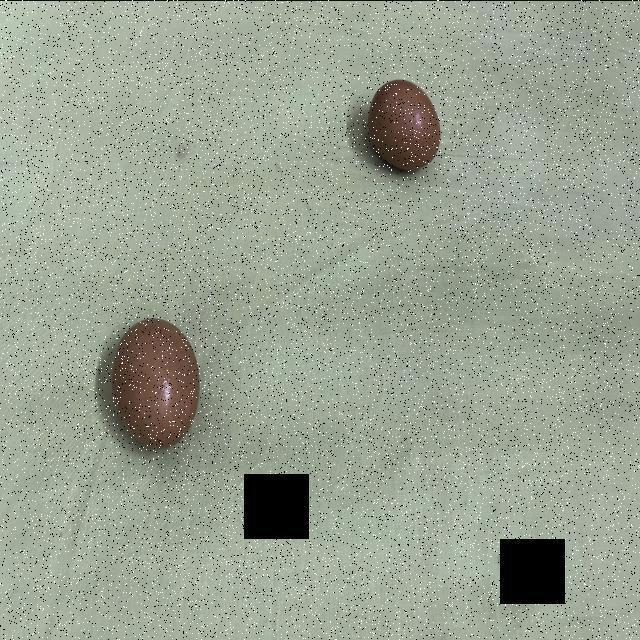egg: (112, 312, 204, 455), (366, 74, 442, 179)
